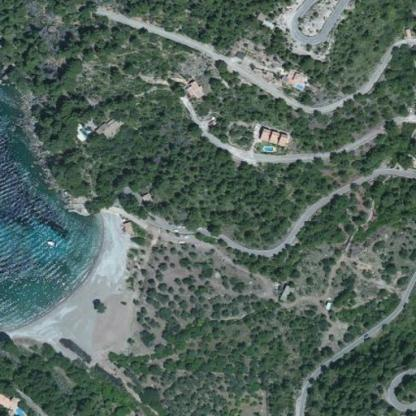ship: (40, 235, 58, 248)
